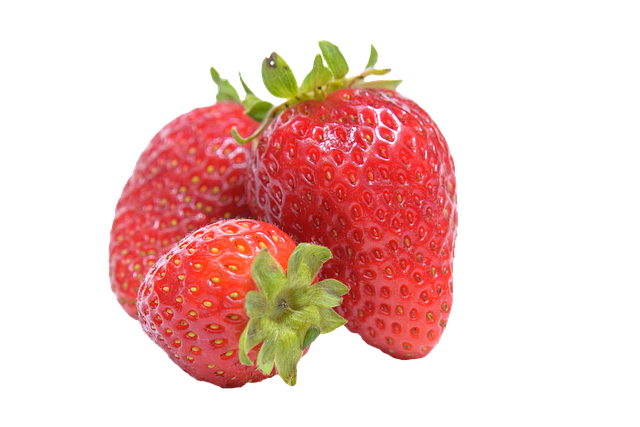Strawberry: (258, 85, 464, 365), (121, 217, 309, 412), (102, 89, 262, 313)
